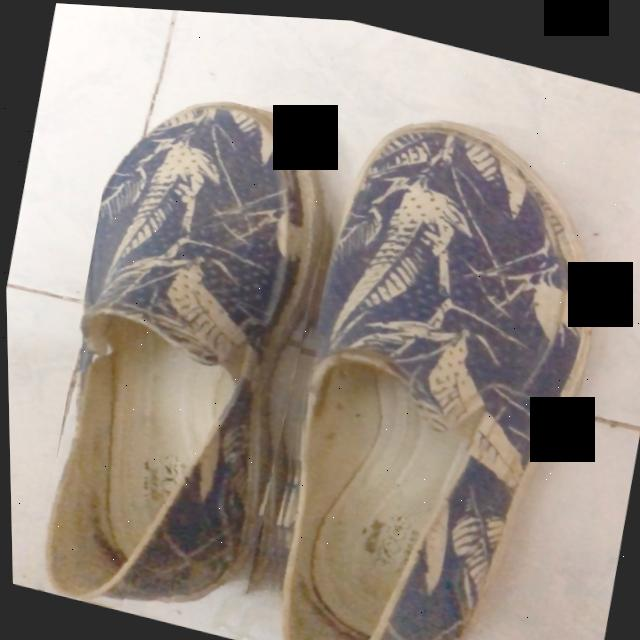shoe: (275, 117, 593, 640), (46, 101, 327, 603)
